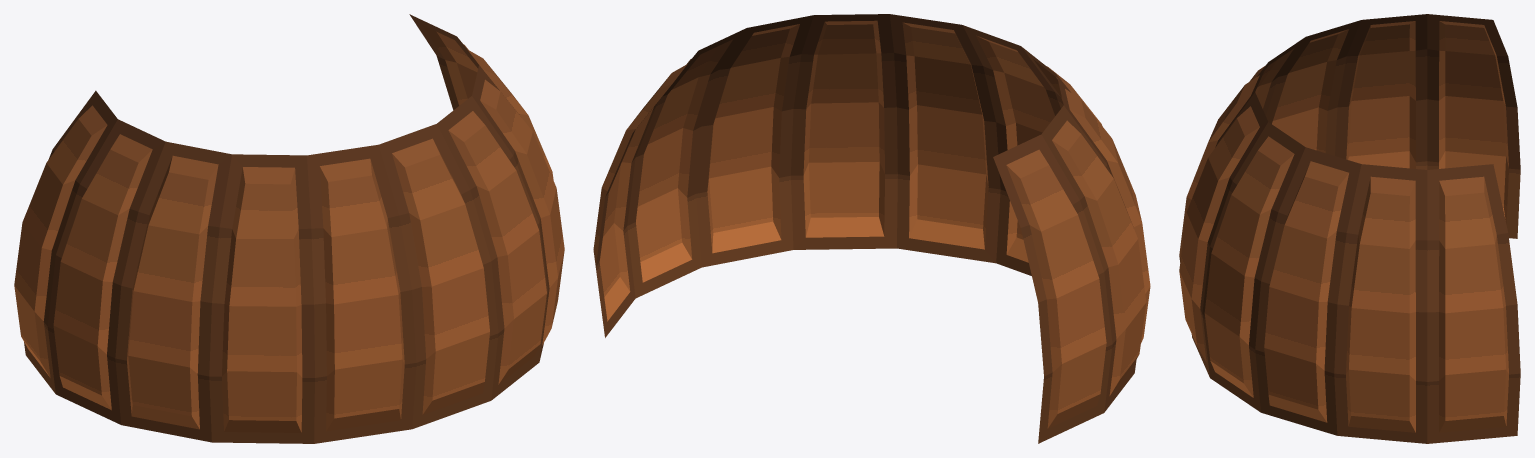
The model's file is cow-armor.fbx.
3 views of the same model, side by side, from view 1: azimuth 30°, elevation 25°; view 2: azimuth 150°, elevation 25°; view 3: azimuth 270°, elevation 25° (orthographic). The views are drawn at different scales.
Visible parts, largest first — view 1: Cow.001; view 2: Cow.001; view 3: Cow.001.
Part boxes in pixels (x1,y1,x2,y2): Cow.001: (14, 14, 564, 443); Cow.001: (593, 14, 1150, 443); Cow.001: (1179, 14, 1520, 443).
Bounding box in the file's own units: 226 × 115 × 145.
